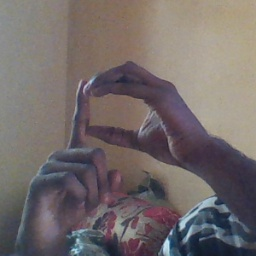P: (44, 62, 181, 210)
